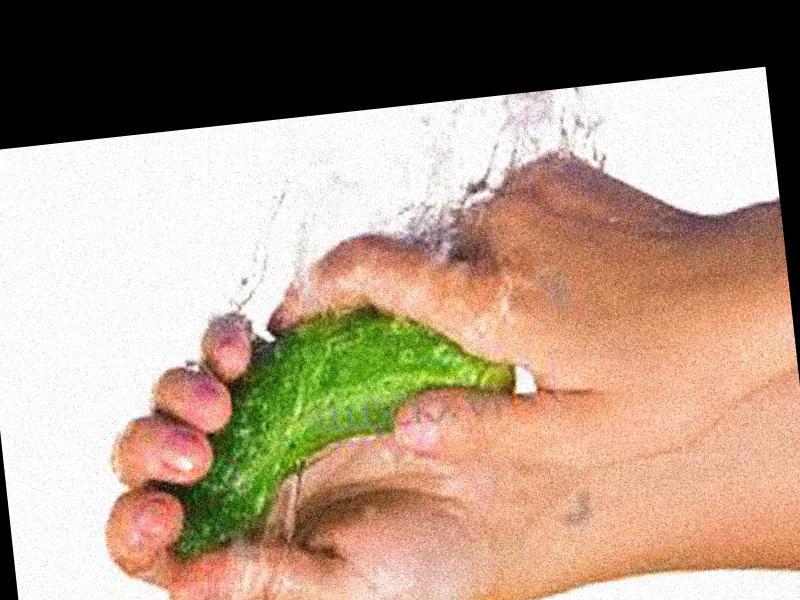Cucumber: (147, 288, 534, 559)
